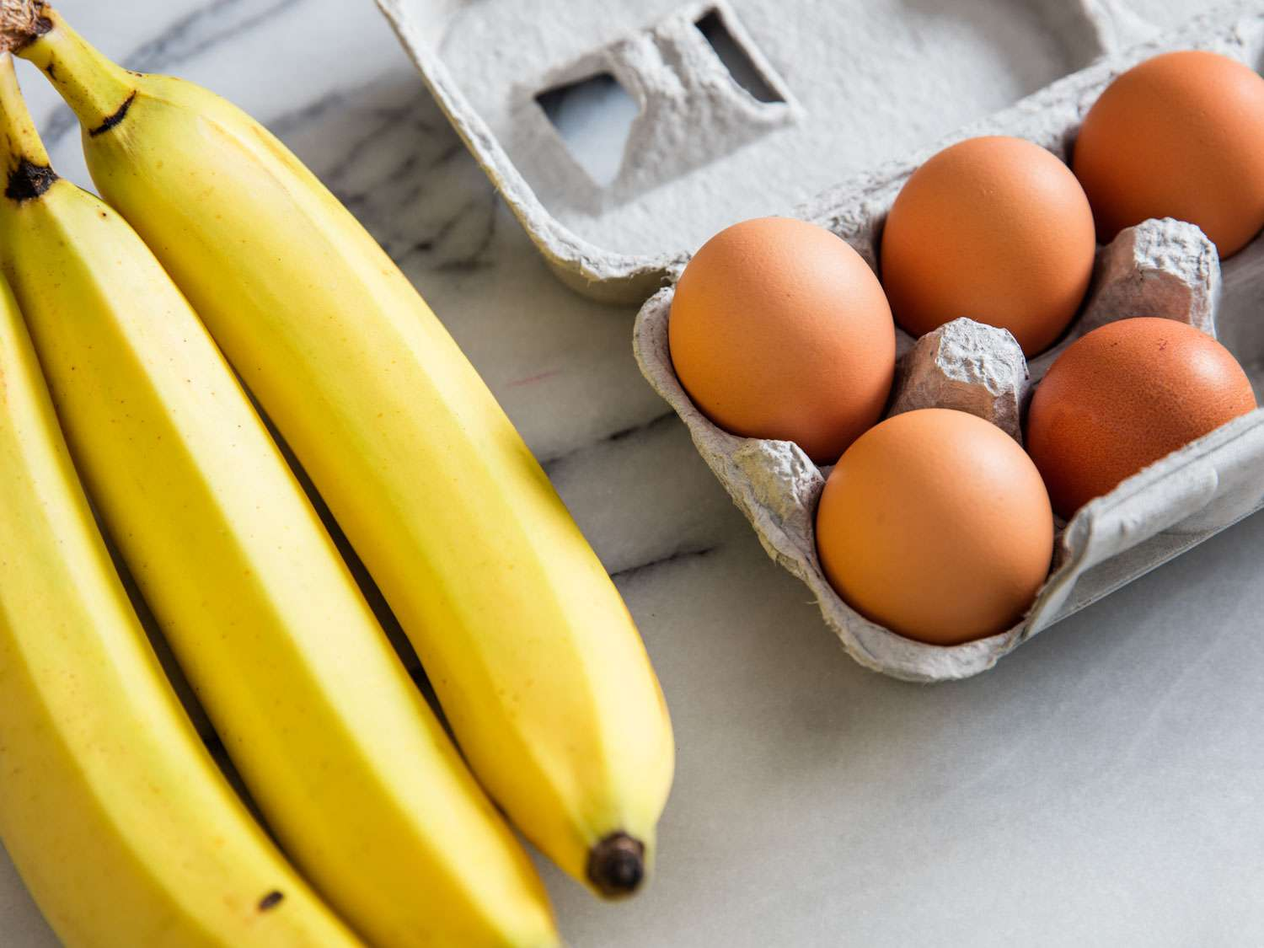banana: (1, 22, 672, 935)
